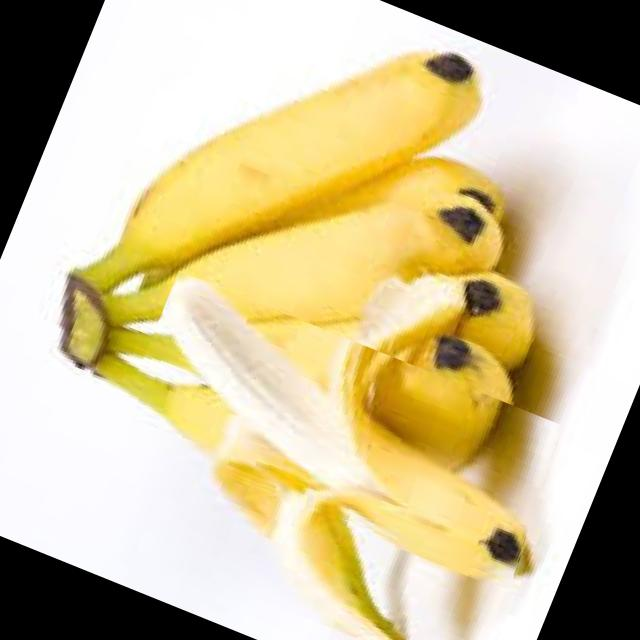Organic: (0, 0, 640, 640), (113, 269, 572, 590)
